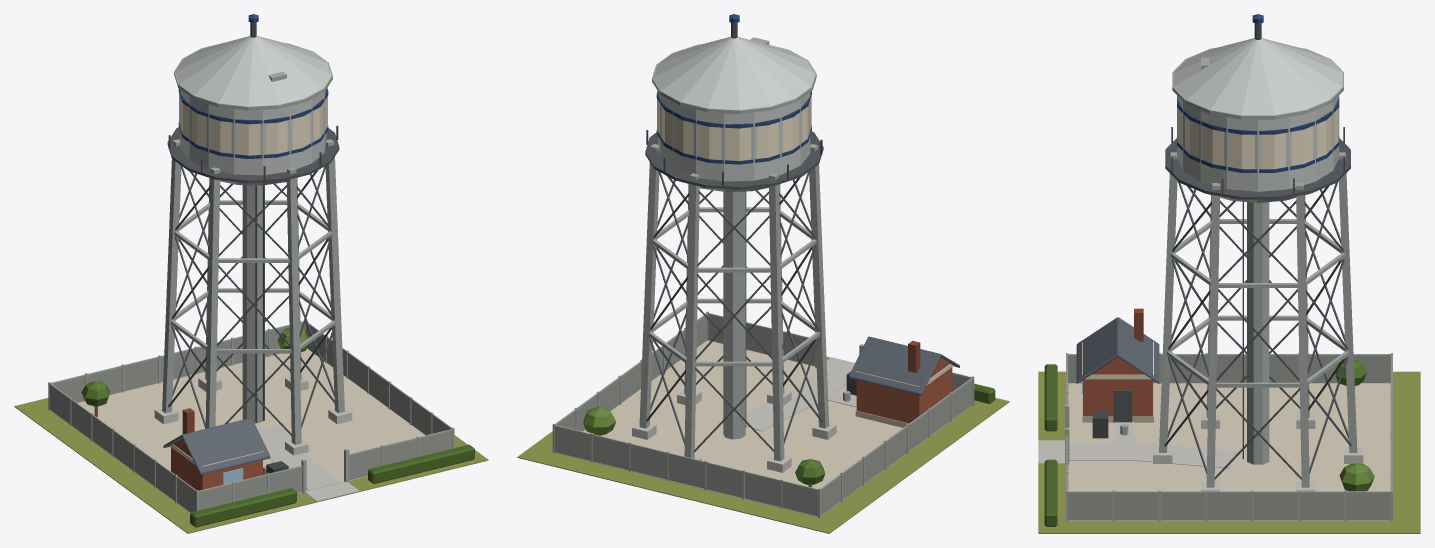
The model's file is watertower.glb.
The picture shows the model from 3 angles, left to right: view 1: azimuth 30°, elevation 25°; view 2: azimuth 150°, elevation 25°; view 3: azimuth 270°, elevation 25°; orthographic projection. The views are drawn at different scales.
Visible parts, largest first — view 1: watertower; view 2: watertower; view 3: watertower.
Boxes of the visible parts, x1,y1,x2,y2 form: watertower: (14, 14, 488, 533); watertower: (517, 14, 1009, 533); watertower: (1038, 14, 1420, 533).
Bounding box in the file's own units: 24 × 31 × 24.
